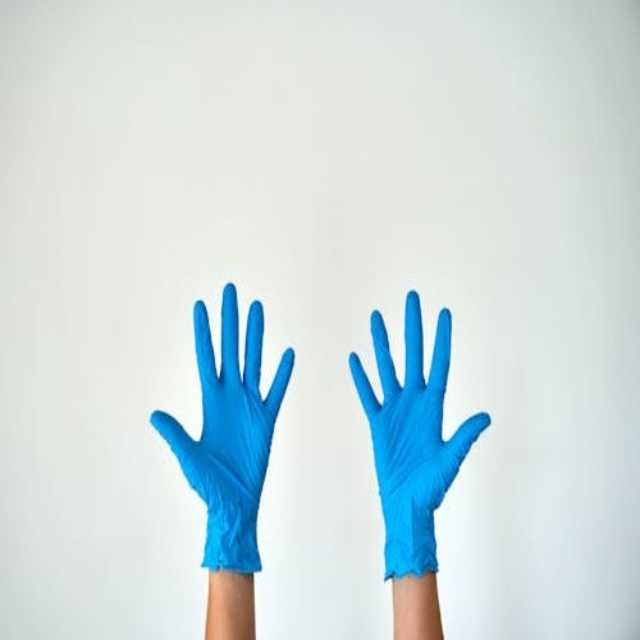Guantes: (151, 283, 297, 575), (350, 290, 492, 580)
